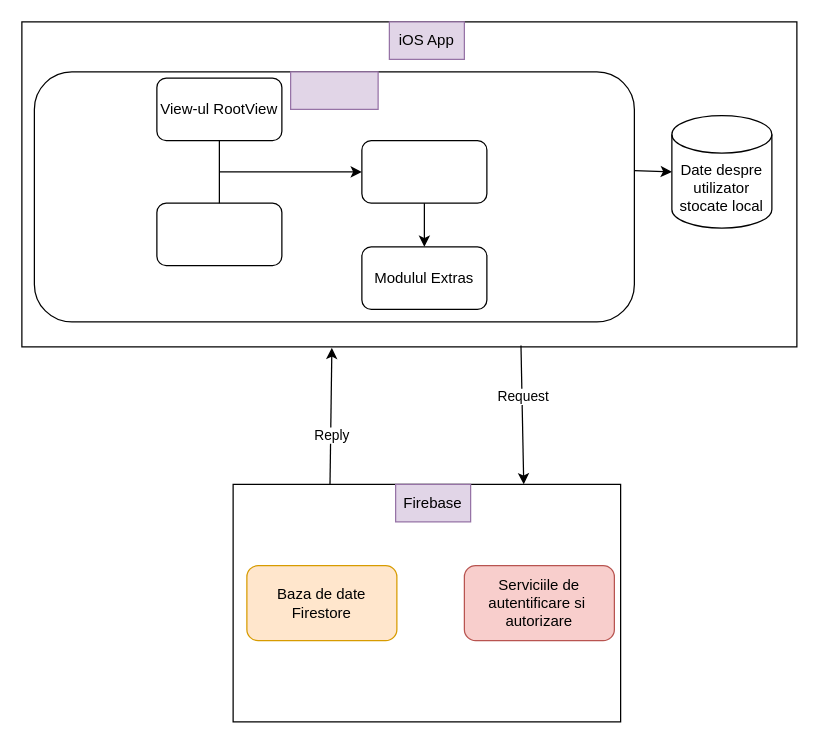
Image size: 819x744. Some labels were removed from this diagram. The centre of each missing label's shape, as x and y in pixels:
"Manager de autentificare" belongs at [219,234].
"Modulul Features" belongs at [424,171].
"QuickPlate" belongs at [333,90].
